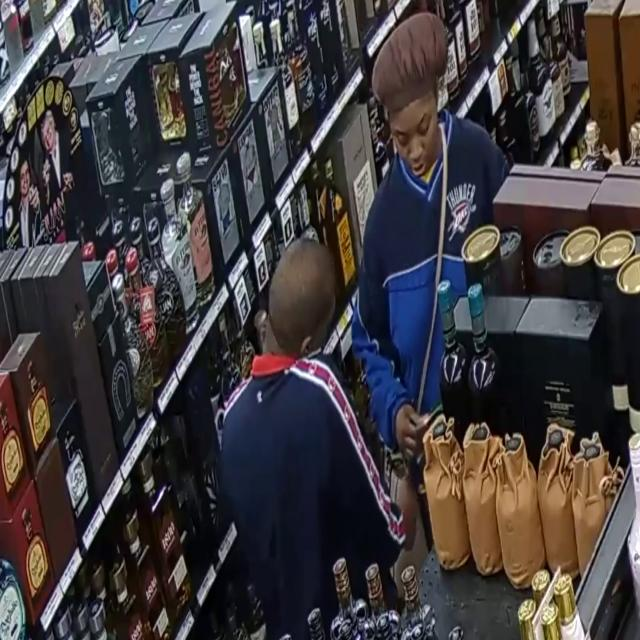normal: (336, 0, 540, 557), (182, 221, 390, 633)
